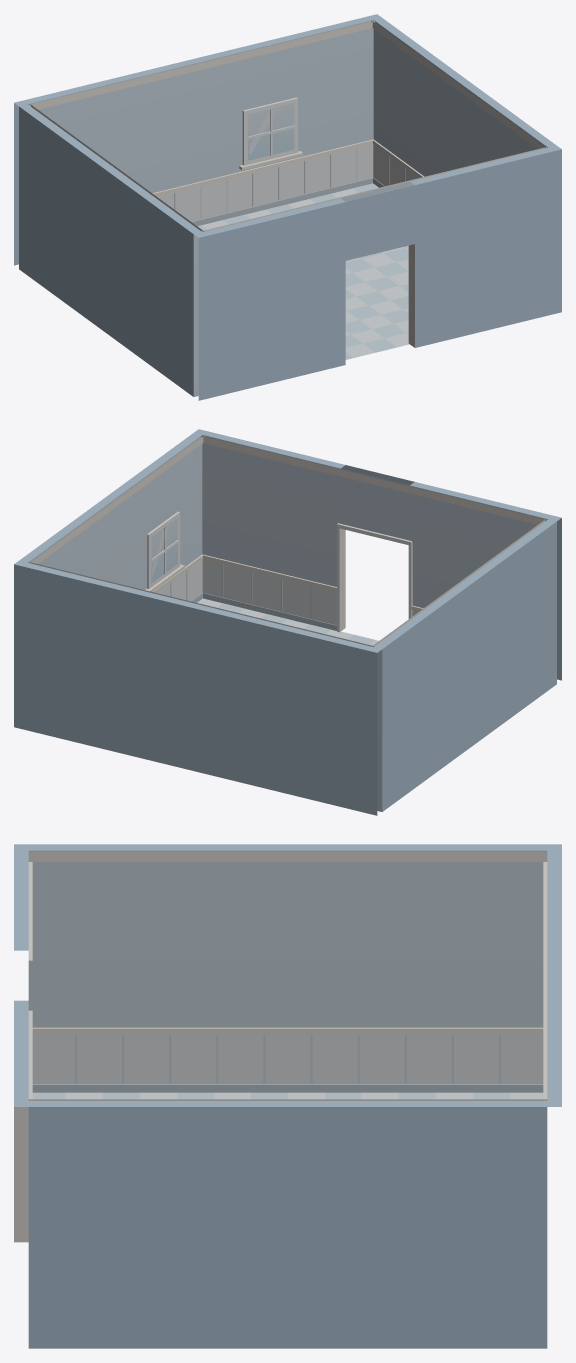
The model's file is susu_interior_shell.glb.
The picture shows the model from 3 angles, top to bottom: view 1: azimuth 30°, elevation 25°; view 2: azimuth 150°, elevation 25°; view 3: azimuth 270°, elevation 25°; orthographic projection. The views are drawn at different scales.
Visible parts, largest first — view 1: dinding_selatan, dinding_utara, dinding_barat, dinding_timur, lantai; view 2: dinding_utara, dinding_selatan, dinding_barat, dinding_timur, lantai; view 3: dinding_timur, dinding_barat, dinding_selatan, dinding_utara, lantai.
Boxes of the visible parts, bbox=[...] form: dinding_selatan: bbox=[193, 145, 561, 400]; dinding_utara: bbox=[14, 14, 381, 265]; dinding_barat: bbox=[19, 104, 203, 396]; dinding_timur: bbox=[371, 18, 556, 187]; lantai: bbox=[197, 183, 409, 359]; dinding_utara: bbox=[14, 560, 382, 815]; dinding_selatan: bbox=[194, 429, 561, 680]; dinding_barat: bbox=[372, 519, 556, 811]; dinding_timur: bbox=[19, 433, 204, 602]; lantai: bbox=[197, 598, 378, 645]; dinding_timur: bbox=[28, 1099, 547, 1348]; dinding_barat: bbox=[28, 844, 547, 1092]; dinding_selatan: bbox=[14, 844, 32, 1242]; dinding_utara: bbox=[543, 844, 561, 1106]; lantai: bbox=[32, 1092, 543, 1099].
Bounding box in the file's own units: 8.4 × 3.6 × 7.4.
